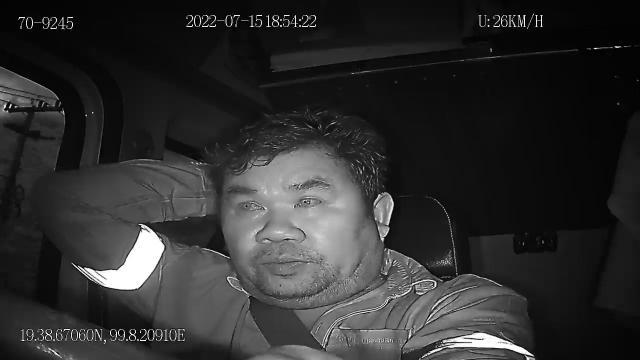SafeDriving: (228, 188, 273, 216), (289, 184, 331, 212)
Seatbelt: (244, 292, 330, 354)
